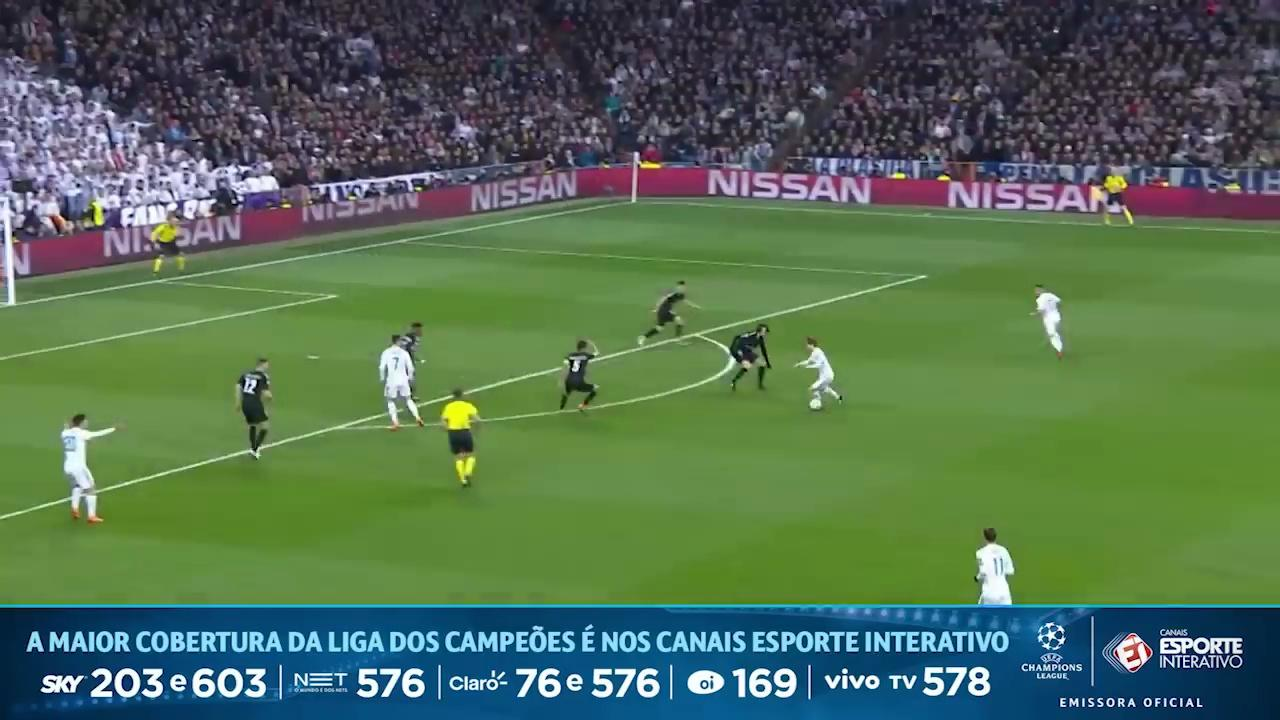football: (808, 397, 821, 410)
player: (61, 414, 118, 522), (379, 335, 424, 430), (638, 281, 698, 344), (235, 358, 271, 458), (975, 528, 1013, 604), (797, 338, 842, 402), (560, 339, 598, 411), (729, 324, 771, 389), (1032, 285, 1063, 358), (399, 322, 422, 364)
referee: (441, 389, 479, 486), (151, 213, 184, 274), (1102, 171, 1133, 225)
